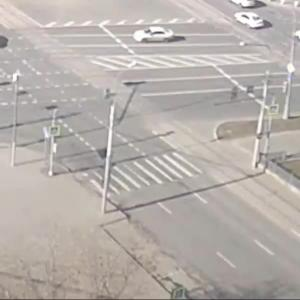car: (233, 11, 268, 32), (133, 28, 178, 44), (229, 1, 258, 9)
